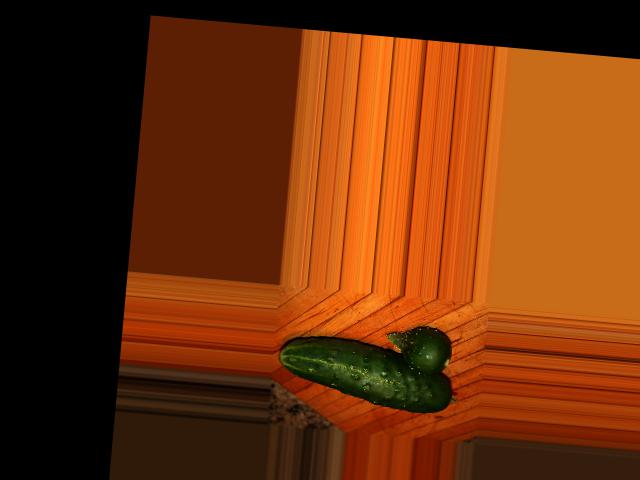cucumber: (274, 332, 456, 415)
